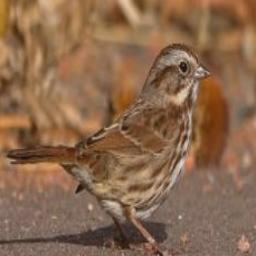Sparrow: (3, 35, 210, 256)
